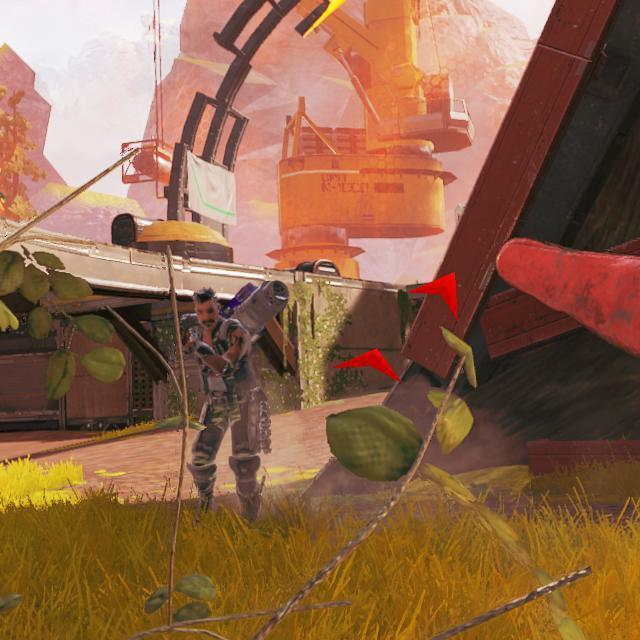avatar: (175, 277, 291, 521)
